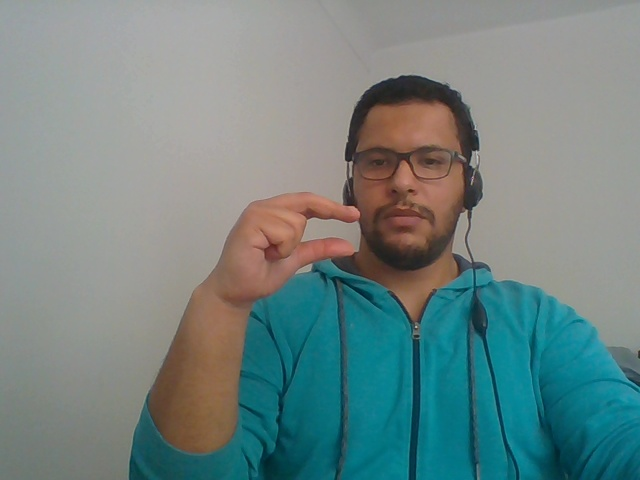no: (161, 150, 366, 352)
